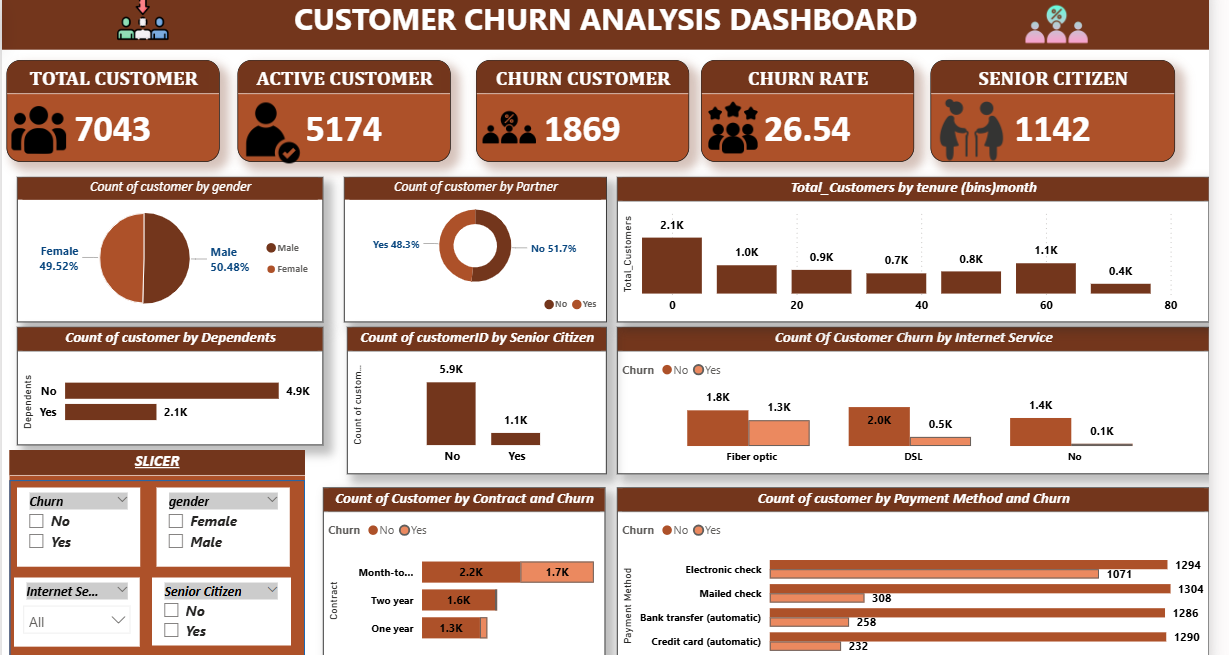

What the dashboard file says about the page in this screenshot:
{"tool":"powerbi","page":{"name":"Page 1","canvas":[1280,720],"ordinal":0},"visuals":[{"type":"barChart","title":"Count of Customer by Contract and Churn","fields":{"Category":["Telco_Customer_Churn_Dataset.Contract"],"Y":["CountNonNull(Telco_Customer_Churn_Dataset.customerID)"],"Series":["Telco_Customer_Churn_Dataset.Churn"]},"box":[340.4,529.7,299,179.7],"z":0},{"type":"clusteredColumnChart","title":"Count Of Customer Churn by Internet Service","fields":{"Category":["Telco_Customer_Churn_Dataset.Internet Service"],"Series":["Telco_Customer_Churn_Dataset.Churn"],"Y":["CountNonNull(Telco_Customer_Churn_Dataset.customerID)"]},"box":[652.2,359.5,628.3,155.9],"z":1000},{"type":"card","title":"TOTAL CUSTOMER","fields":{"Values":["Telco_Customer_Churn_Dataset.Total_Customers"]},"box":[4.8,76.3,225.9,108.2],"z":2000},{"type":"textbox","box":[0,4.8,1280.4,60.4],"z":3000},{"type":"card","title":"ACTIVE CUSTOMER","fields":{"Values":["Telco_Customer_Churn_Dataset.Active Customers"]},"box":[249.7,76.3,225.9,108.2],"z":4000},{"type":"card","title":"CHURN CUSTOMER","fields":{"Values":["Telco_Customer_Churn_Dataset.Churned_Customers"]},"box":[502.6,76.3,225.9,108.2],"z":5000},{"type":"card","title":"CHURN RATE","fields":{"Values":["Telco_Customer_Churn_Dataset.Churn Rate(%)"]},"box":[741.2,76.3,225.9,108.2],"z":6000},{"type":"card","title":"SENIOR CITIZEN","fields":{"Values":["Telco_Customer_Churn_Dataset.SENIOR_CITIZEN"]},"box":[984.6,76.3,259.3,108.2],"z":7000},{"type":"pieChart","title":"Count of customer by gender","fields":{"Category":["Telco_Customer_Churn_Dataset.gender"],"Y":["CountNonNull(Telco_Customer_Churn_Dataset.customerID)"]},"box":[15.9,200.4,324.5,154.3],"z":8000},{"type":"donutChart","title":"Count of customer by Partner","fields":{"Category":["Telco_Customer_Churn_Dataset.Partner"],"Y":["CountNonNull(Telco_Customer_Churn_Dataset.customerID)"]},"box":[362.7,200.4,278.4,154.3],"z":9000},{"type":"barChart","title":"Count of customer by Dependents","fields":{"Category":["Telco_Customer_Churn_Dataset.Dependents"],"Y":["CountNonNull(Telco_Customer_Churn_Dataset.customerID)"]},"box":[15.9,359.5,324.5,125.7],"z":10000},{"type":"clusteredColumnChart","fields":{"Category":["Telco_Customer_Churn_Dataset.tenure (bins)month"],"Y":["Telco_Customer_Churn_Dataset.Total_Customers"]},"box":[652.2,200.4,628.3,154.3],"z":11000},{"type":"columnChart","fields":{"Category":["Telco_Customer_Churn_Dataset.Senior Citizen"],"Y":["CountNonNull(Telco_Customer_Churn_Dataset.customerID)"]},"box":[365.8,359.5,275.2,155.9],"z":12000},{"type":"clusteredBarChart","title":"Count of customer by Payment Method and Churn","fields":{"Category":["Telco_Customer_Churn_Dataset.Payment Method"],"Y":["CountNonNull(Telco_Customer_Churn_Dataset.customerID)"],"Series":["Telco_Customer_Churn_Dataset.Churn"]},"box":[652.2,529.7,628.3,190.9],"z":13000},{"type":"shape","title":"SLICER","box":[8,489.9,313.4,219.5],"z":14000},{"type":"slicer","fields":{"Values":["Telco_Customer_Churn_Dataset.gender"]},"box":[163.8,529.7,141.6,84.3],"z":15000},{"type":"slicer","fields":{"Values":["Telco_Customer_Churn_Dataset.Churn"]},"box":[15.9,529.7,130.4,84.3],"z":16000},{"type":"slicer","fields":{"Values":["Telco_Customer_Churn_Dataset.Senior Citizen"]},"box":[159.1,625.1,146.3,71.6],"z":17000},{"type":"slicer","fields":{"Values":["Telco_Customer_Churn_Dataset.Internet Service"]},"box":[12.7,625.1,133.6,73.2],"z":18000},{"type":"image","box":[0,116.1,77.9,68.4],"z":19000},{"type":"image","box":[728.5,111.3,93.8,73.2],"z":20000},{"type":"image","box":[249.7,111.3,74.8,84.3],"z":21001},{"type":"image","box":[504.2,111.3,66.8,73.2],"z":21002},{"type":"image","box":[956,0,324.5,76.3],"z":21004},{"type":"image","box":[0,0,299,65.2],"z":21005},{"type":"image","box":[967.1,111.3,122.5,77.9],"z":21006}]}

Visuals, with their boxes in screenshot pixels (x1, y1, x2, y2):
"Count of Customer by Contract and Churn" barChart: {"left": 324, "top": 484, "right": 602, "bottom": 651}
"Count Of Customer Churn by Internet Service" clusteredColumnChart: {"left": 614, "top": 325, "right": 1199, "bottom": 471}
"TOTAL CUSTOMER" card: {"left": 11, "top": 61, "right": 221, "bottom": 162}
textbox: {"left": 6, "top": 0, "right": 1199, "bottom": 51}
"ACTIVE CUSTOMER" card: {"left": 239, "top": 61, "right": 450, "bottom": 162}
"CHURN CUSTOMER" card: {"left": 475, "top": 61, "right": 685, "bottom": 162}
"CHURN RATE" card: {"left": 697, "top": 61, "right": 907, "bottom": 162}
"SENIOR CITIZEN" card: {"left": 924, "top": 61, "right": 1165, "bottom": 162}
"Count of customer by gender" pieChart: {"left": 21, "top": 177, "right": 324, "bottom": 321}
"Count of customer by Partner" donutChart: {"left": 344, "top": 177, "right": 604, "bottom": 321}
"Count of customer by Dependents" barChart: {"left": 21, "top": 325, "right": 324, "bottom": 442}
clusteredColumnChart - Telco_Customer_Churn_Dataset.tenure (bins)month x Telco_Customer_Churn_Dataset.Total_Customers: {"left": 614, "top": 177, "right": 1199, "bottom": 321}
columnChart - Telco_Customer_Churn_Dataset.Senior Citizen x CountNonNull(Telco_Customer_Churn_Dataset.customerID): {"left": 347, "top": 325, "right": 604, "bottom": 471}
"Count of customer by Payment Method and Churn" clusteredBarChart: {"left": 614, "top": 484, "right": 1199, "bottom": 654}
"SLICER" shape: {"left": 14, "top": 447, "right": 306, "bottom": 651}
slicer - Telco_Customer_Churn_Dataset.gender: {"left": 159, "top": 484, "right": 291, "bottom": 562}
slicer - Telco_Customer_Churn_Dataset.Churn: {"left": 21, "top": 484, "right": 143, "bottom": 562}
slicer - Telco_Customer_Churn_Dataset.Senior Citizen: {"left": 155, "top": 573, "right": 291, "bottom": 640}
slicer - Telco_Customer_Churn_Dataset.Internet Service: {"left": 18, "top": 573, "right": 143, "bottom": 641}
image: {"left": 6, "top": 99, "right": 79, "bottom": 162}
image: {"left": 685, "top": 94, "right": 773, "bottom": 162}
image: {"left": 239, "top": 94, "right": 309, "bottom": 173}
image: {"left": 476, "top": 94, "right": 538, "bottom": 162}
image: {"left": 897, "top": 0, "right": 1199, "bottom": 61}
image: {"left": 6, "top": 0, "right": 285, "bottom": 51}
image: {"left": 907, "top": 94, "right": 1022, "bottom": 167}
